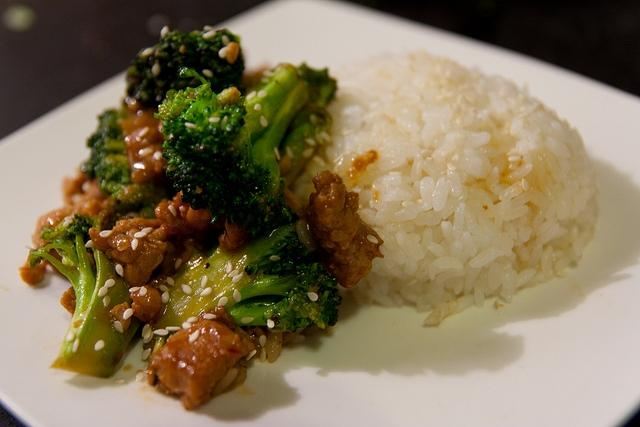broccoli: (140, 218, 342, 357), (152, 64, 312, 235), (26, 210, 140, 378), (124, 29, 246, 112), (81, 106, 175, 207), (278, 62, 340, 160)
